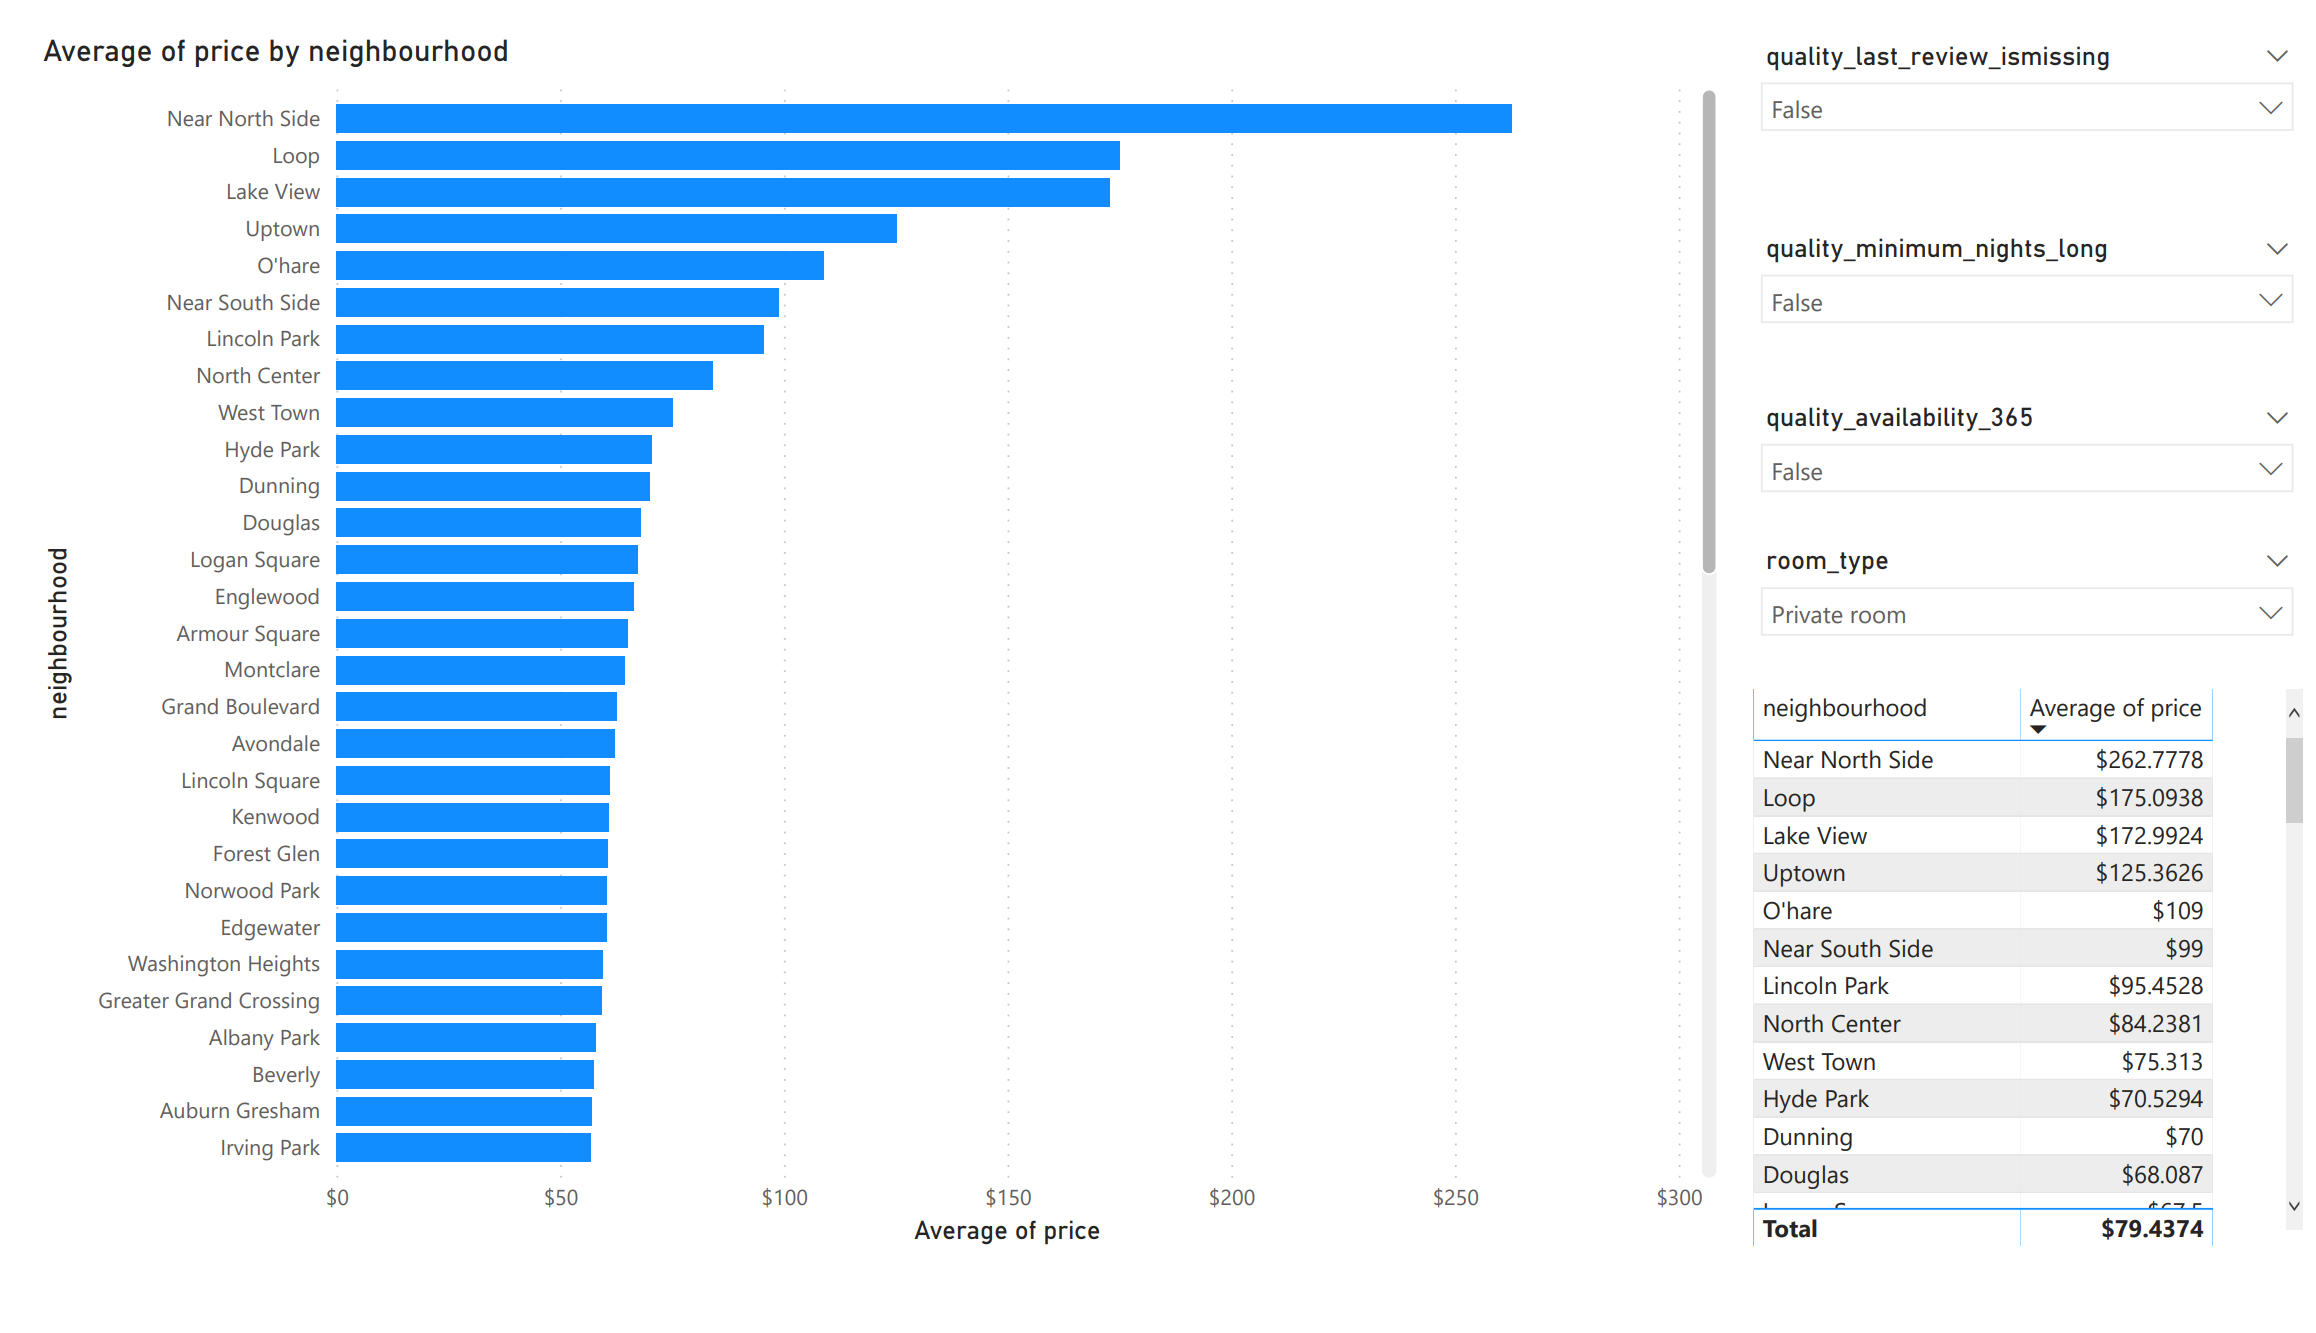

Layout of this report page (visuals, bound fields, positions):
{"tool":"powerbi","page":{"name":"Page 1","canvas":[1280,720],"ordinal":0},"visuals":[{"type":"clusteredBarChart","fields":{"Category":["airbnb_cleaned.neighbourhood"],"Y":["Avg(airbnb_cleaned.price)"]},"box":[10,0,942.9,681.4],"z":0},{"type":"slicer","fields":{"Values":["airbnb_cleaned.quality_last_review_ismissing"]},"box":[962.9,0,317.1,82.9],"z":1},{"type":"slicer","fields":{"Values":["airbnb_cleaned.quality_minimum_nights_long"]},"box":[962.9,107.1,317.1,94.3],"z":2},{"type":"slicer","fields":{"Values":["airbnb_cleaned.quality_availability_365"]},"box":[962.9,201.4,317.1,80],"z":3},{"type":"slicer","fields":{"Values":["airbnb_cleaned.room_type"]},"box":[962.9,281.4,317.1,80],"z":4},{"type":"tableEx","fields":{"Values":["airbnb_cleaned.neighbourhood","Avg(airbnb_cleaned.price)"]},"box":[963,361,317,320],"z":5}]}

Visuals, with their boxes in screenshot pixels (x1, y1, x2, y2), scaled from the page's 1280x720 canvas onto the 2316x1333 screenshot:
clusteredBarChart - airbnb_cleaned.neighbourhood x Avg(airbnb_cleaned.price): 18/0/1724/1262
slicer - airbnb_cleaned.quality_last_review_ismissing: 1742/0/2315/153
slicer - airbnb_cleaned.quality_minimum_nights_long: 1742/198/2315/373
slicer - airbnb_cleaned.quality_availability_365: 1742/373/2315/521
slicer - airbnb_cleaned.room_type: 1742/521/2315/669
tableEx - airbnb_cleaned.neighbourhood x Avg(airbnb_cleaned.price): 1742/668/2315/1261
